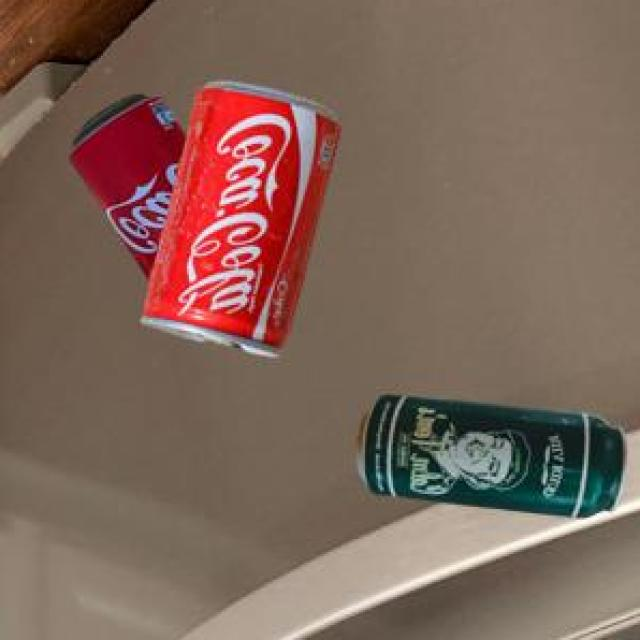logam: (139, 85, 336, 360), (355, 398, 624, 521), (68, 98, 184, 282)
